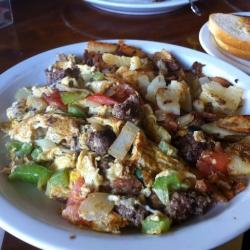omelette: (8, 44, 235, 228)
